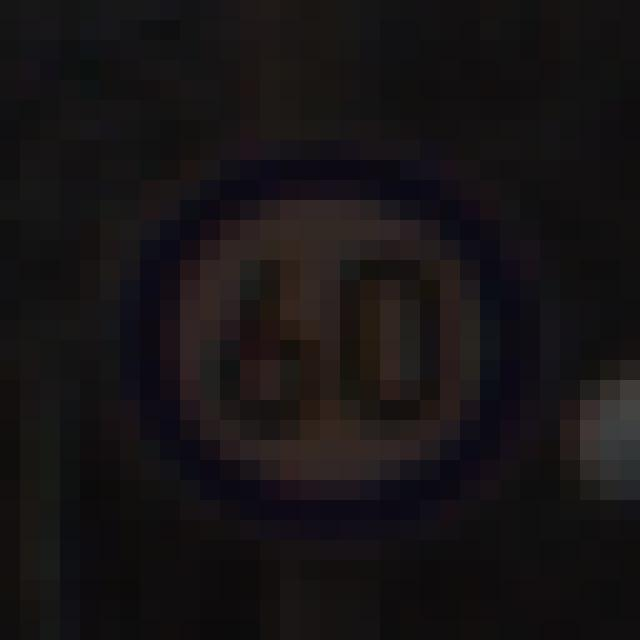SPEED-LIMIT-60: (140, 144, 520, 544)
